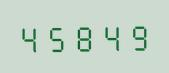eight: (70, 20, 95, 52)
five: (44, 20, 69, 53)
four: (96, 19, 121, 52), (18, 21, 43, 53)
nine: (122, 19, 147, 51)
